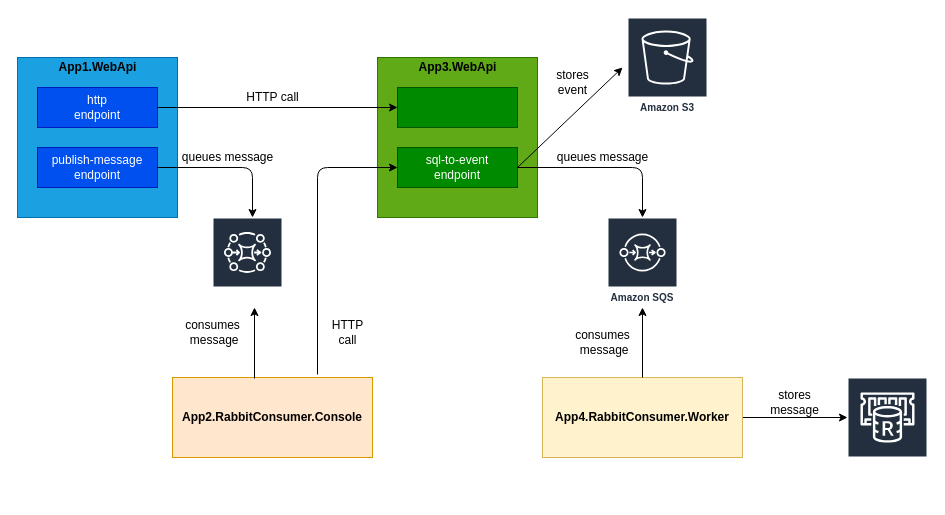
Image size: 945x515. Some labels were removed from this diagram. The shapes that lost their labels are listed below. From the top down, each one's centre as x and y in pixels, then its label:
the point at 457,107: dummy endpoint
the point at 247,262: Amazon MQ
the point at 887,437: Amazon ElastiCache for Redis
